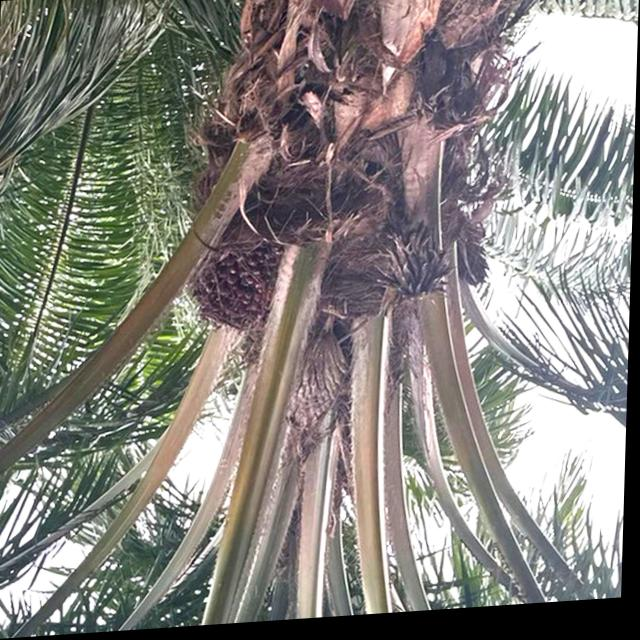ripe: (182, 236, 289, 356)
